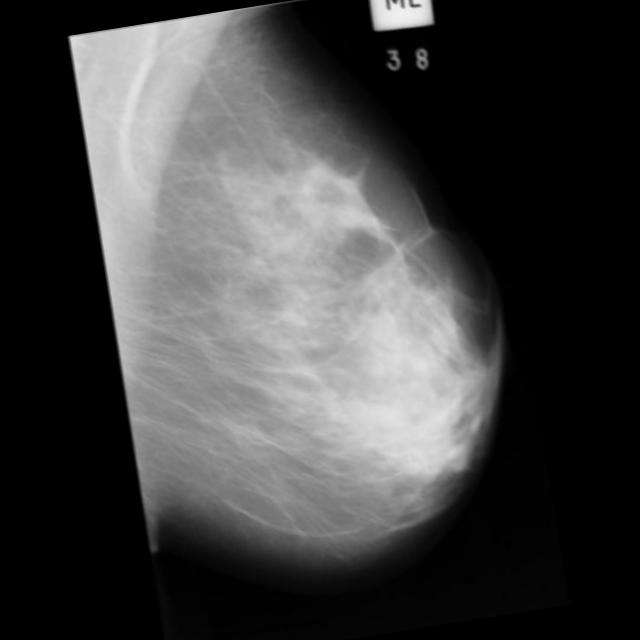SPIC: (290, 184, 479, 372)
